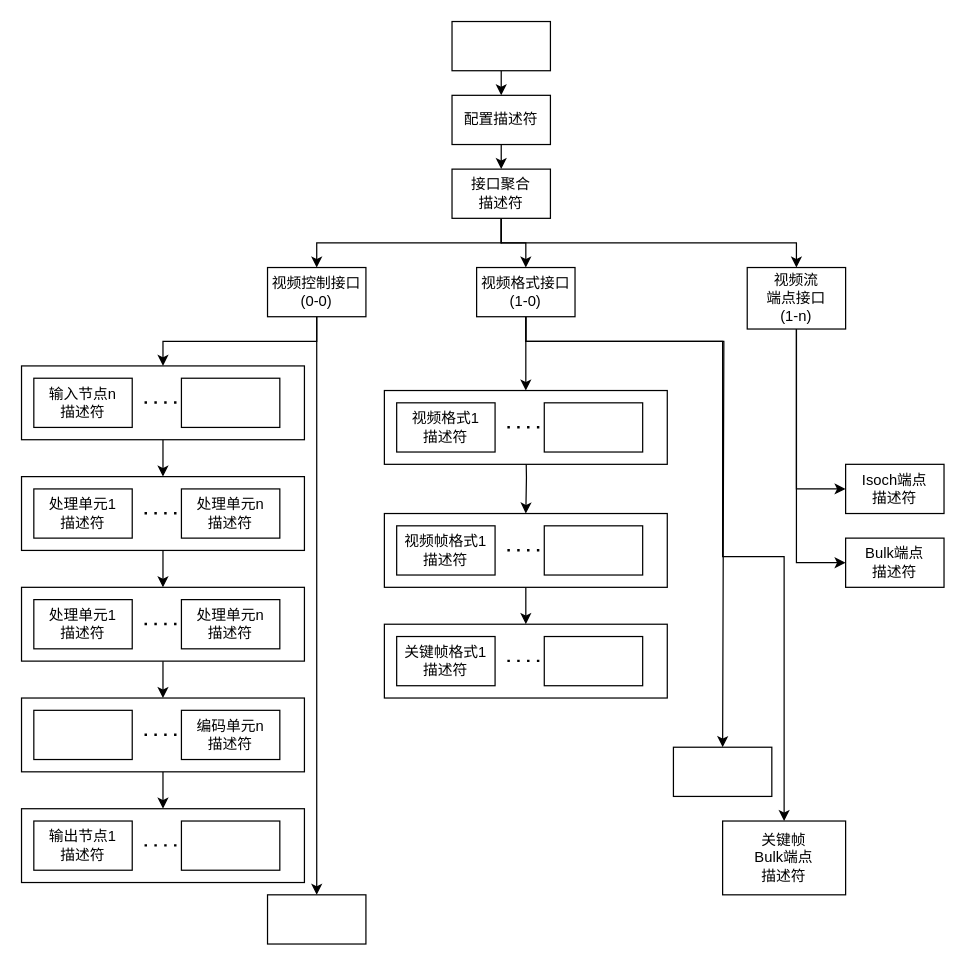
Some shapes in this 966 by 966 pixel diagram are drawn without their labels. The shapes that lost their labels are listed below. From the top down, each one's box as (x1, y1, x2, y2) in pixels, then its label:
(451, 20, 550, 71): 设备描述符
(180, 377, 280, 427): 输入节点1 描述符
(543, 402, 643, 452): 视频格式n 描述符
(543, 525, 643, 575): 视频帧格式n 描述符
(543, 635, 643, 686): 关键帧格式n 描述符
(33, 709, 132, 760): 编码单元1 描述符
(672, 746, 772, 796): 色彩格式 描述符
(180, 820, 280, 870): 输出节点n 描述符
(266, 894, 366, 944): Interrupt端点 描述符
